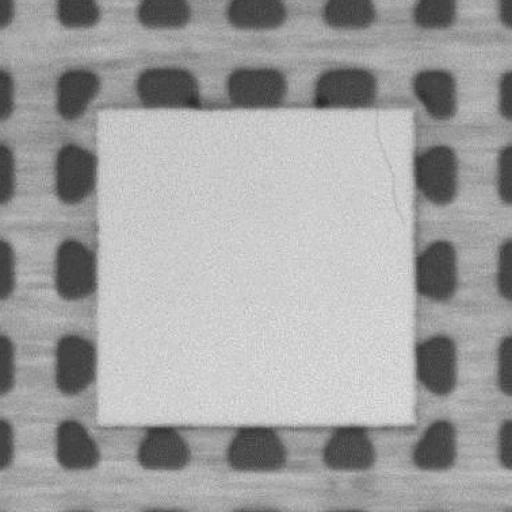DIE_CRACK: (374, 108, 401, 227)
